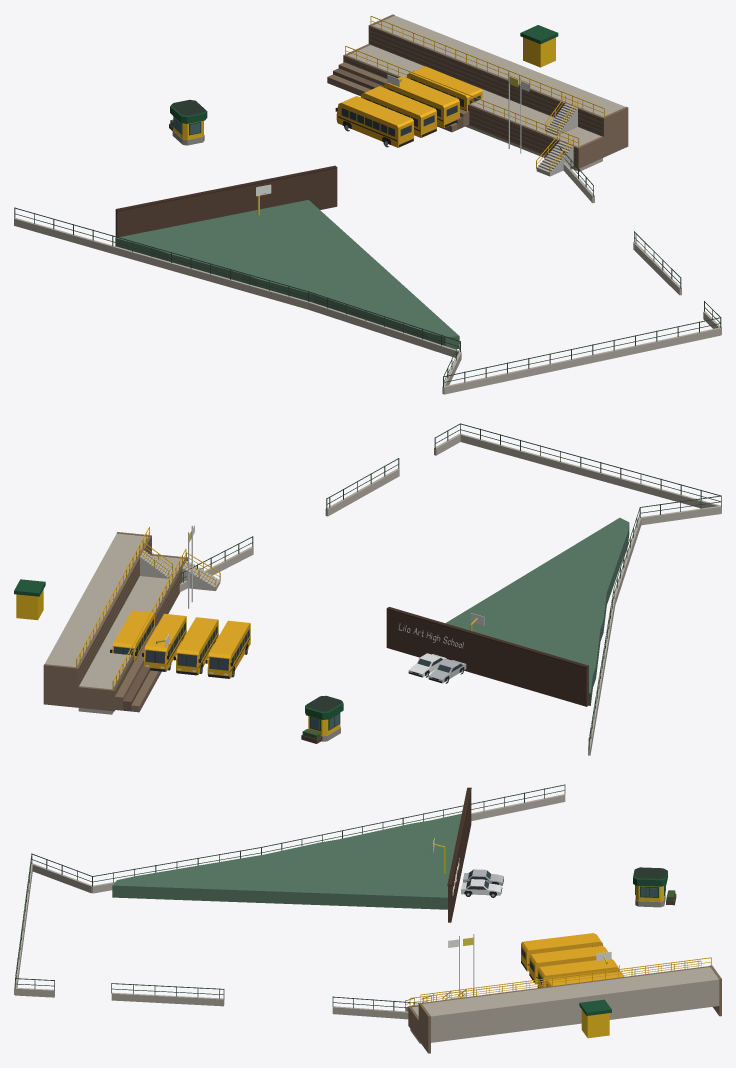
The picture shows the model from 3 angles, top to bottom: view 1: azimuth 30°, elevation 25°; view 2: azimuth 150°, elevation 25°; view 3: azimuth 270°, elevation 25°; orthographic projection. The views are drawn at different scales.
Visible parts, largest first — view 1: site-west-court, site-wall-concrete, site-terrace-paving, site-terrace-stone-a, site-bus-yellow, site-lila-sign-wall, site-terrace-stone-b, site-fence, site-rail-yellow, site-stair-stone, site-car-glass, site-booth-yellow (+2 smaller); view 2: site-west-court, site-terrace-paving, site-lila-sign-wall, site-wall-concrete, site-terrace-stone-a, site-bus-yellow, site-fence, site-terrace-stone-b, site-car-glass, site-lila-sign-wall-cap, site-rail-yellow, site-stair-stone (+3 smaller); view 3: site-west-court, site-terrace-paving, site-wall-concrete, site-bus-yellow, site-fence, site-rail-yellow, site-terrace-stone-a, site-booth-yellow, site-lila-sign-wall, site-booth-green, site-lila-sign-wall-cap, site-car-e9ebec.
Part boxes in pixels (bbox=[...]): site-west-court: bbox=[115, 200, 459, 349]; site-wall-concrete: bbox=[14, 162, 721, 394]; site-terrace-paving: bbox=[347, 15, 625, 171]; site-terrace-stone-a: bbox=[327, 14, 628, 168]; site-bus-yellow: bbox=[336, 66, 482, 147]; site-lila-sign-wall: bbox=[115, 168, 337, 237]; site-terrace-stone-b: bbox=[333, 28, 601, 165]; site-fence: bbox=[14, 141, 721, 387]; site-rail-yellow: bbox=[345, 16, 604, 173]; site-stair-stone: bbox=[536, 103, 577, 176]; site-car-glass: bbox=[341, 78, 480, 136]; site-booth-yellow: bbox=[173, 37, 555, 139]; site-west-court: bbox=[445, 517, 629, 705]; site-terrace-paving: bbox=[45, 533, 184, 714]; site-lila-sign-wall: bbox=[386, 609, 588, 706]; site-wall-concrete: bbox=[179, 433, 721, 755]; site-terrace-stone-a: bbox=[43, 532, 187, 712]; site-bus-yellow: bbox=[112, 610, 250, 678]; site-fence: bbox=[180, 423, 721, 748]; site-terrace-stone-b: bbox=[79, 539, 187, 711]; site-car-glass: bbox=[113, 619, 462, 672]; site-lila-sign-wall-cap: bbox=[386, 607, 588, 696]; site-rail-yellow: bbox=[76, 526, 220, 689]; site-stair-stone: bbox=[140, 550, 220, 590]; site-west-court: bbox=[112, 813, 461, 909]; site-terrace-paving: bbox=[410, 967, 719, 1043]; site-wall-concrete: bbox=[14, 794, 565, 1019]; site-bus-yellow: bbox=[521, 933, 624, 987]; site-fence: bbox=[15, 784, 565, 1011]; site-rail-yellow: bbox=[405, 957, 711, 1008]; site-terrace-stone-a: bbox=[408, 965, 721, 1053]; site-booth-yellow: bbox=[581, 885, 664, 1038]; site-lila-sign-wall: bbox=[448, 791, 471, 922]; site-booth-green: bbox=[579, 869, 667, 1015]; site-lila-sign-wall-cap: bbox=[447, 787, 471, 912]; site-car-e9ebec: bbox=[461, 879, 501, 895].
Size of the model in its own units: 69.16 by 9.9 by 80.14.
